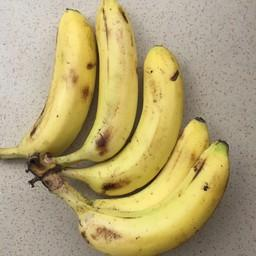Banana Ripe: (54, 40, 193, 225), (46, 134, 240, 256), (39, 4, 101, 194)
